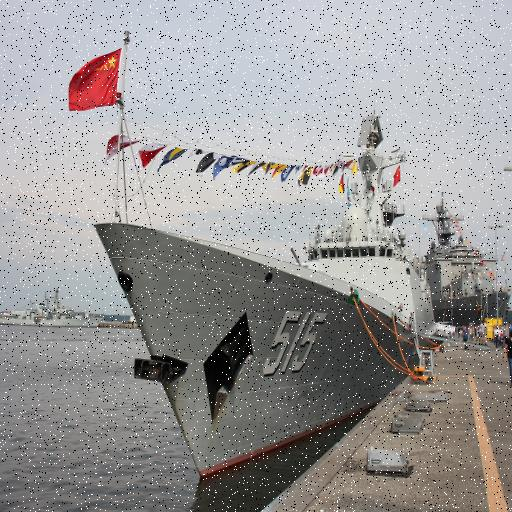Fragata: (93, 53, 437, 487)
